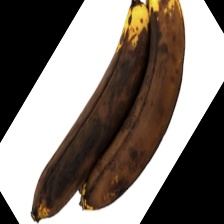banana: (0, 51, 201, 211)
